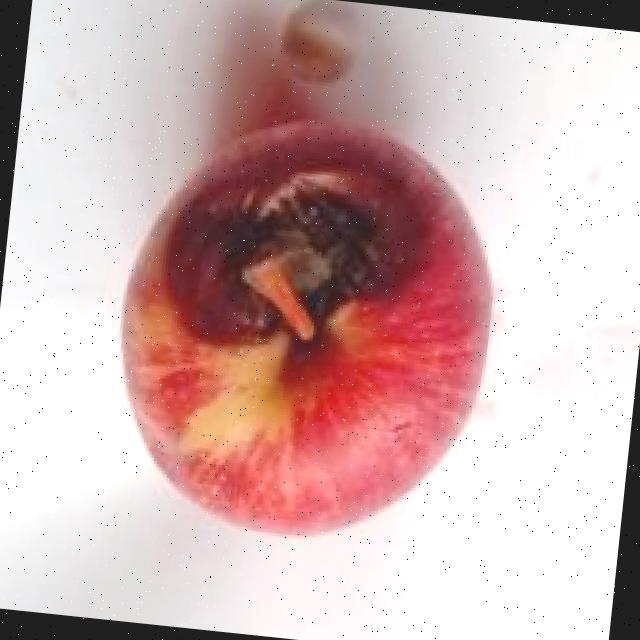rotten apple: (85, 0, 553, 591)
